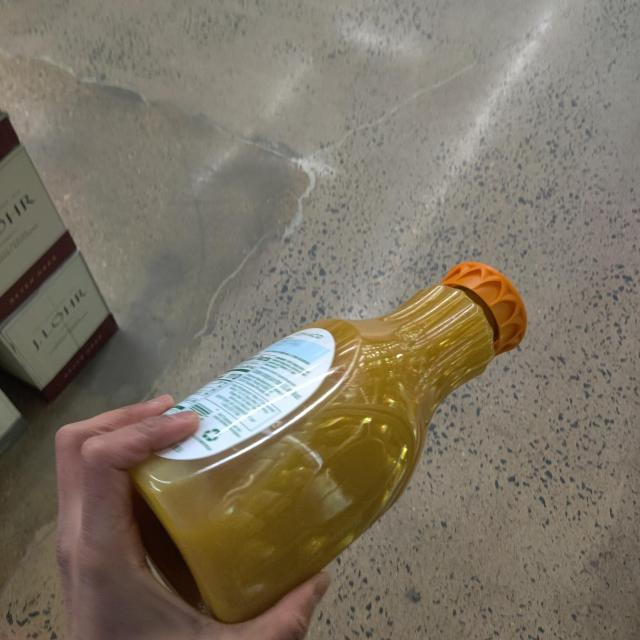Juice: (123, 258, 546, 613)
